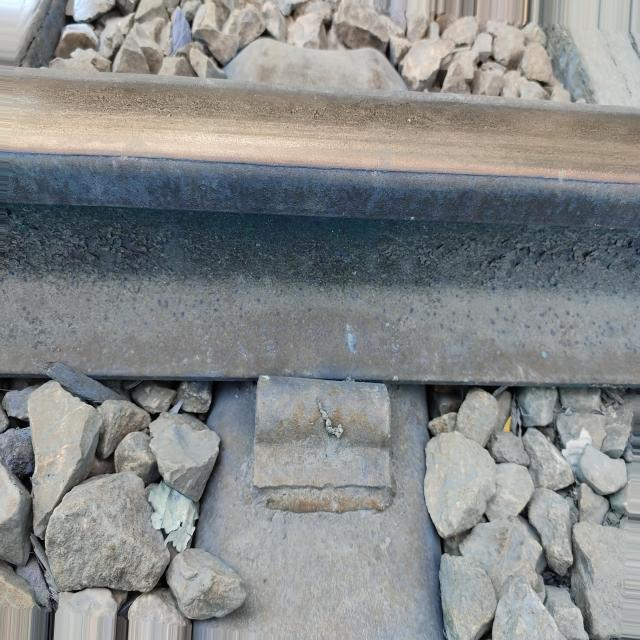Missing Fastener: (193, 378, 441, 639)
